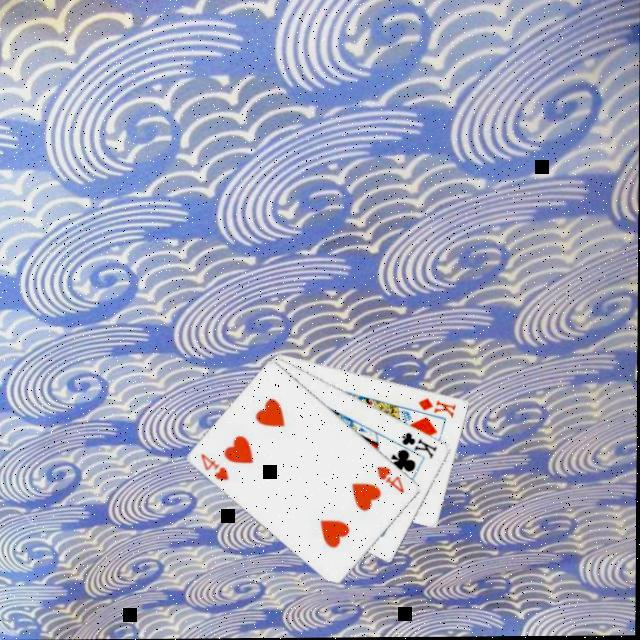4H: (376, 465, 411, 499), (200, 452, 234, 486)
KC: (394, 431, 443, 464)
KD: (418, 397, 462, 422)
